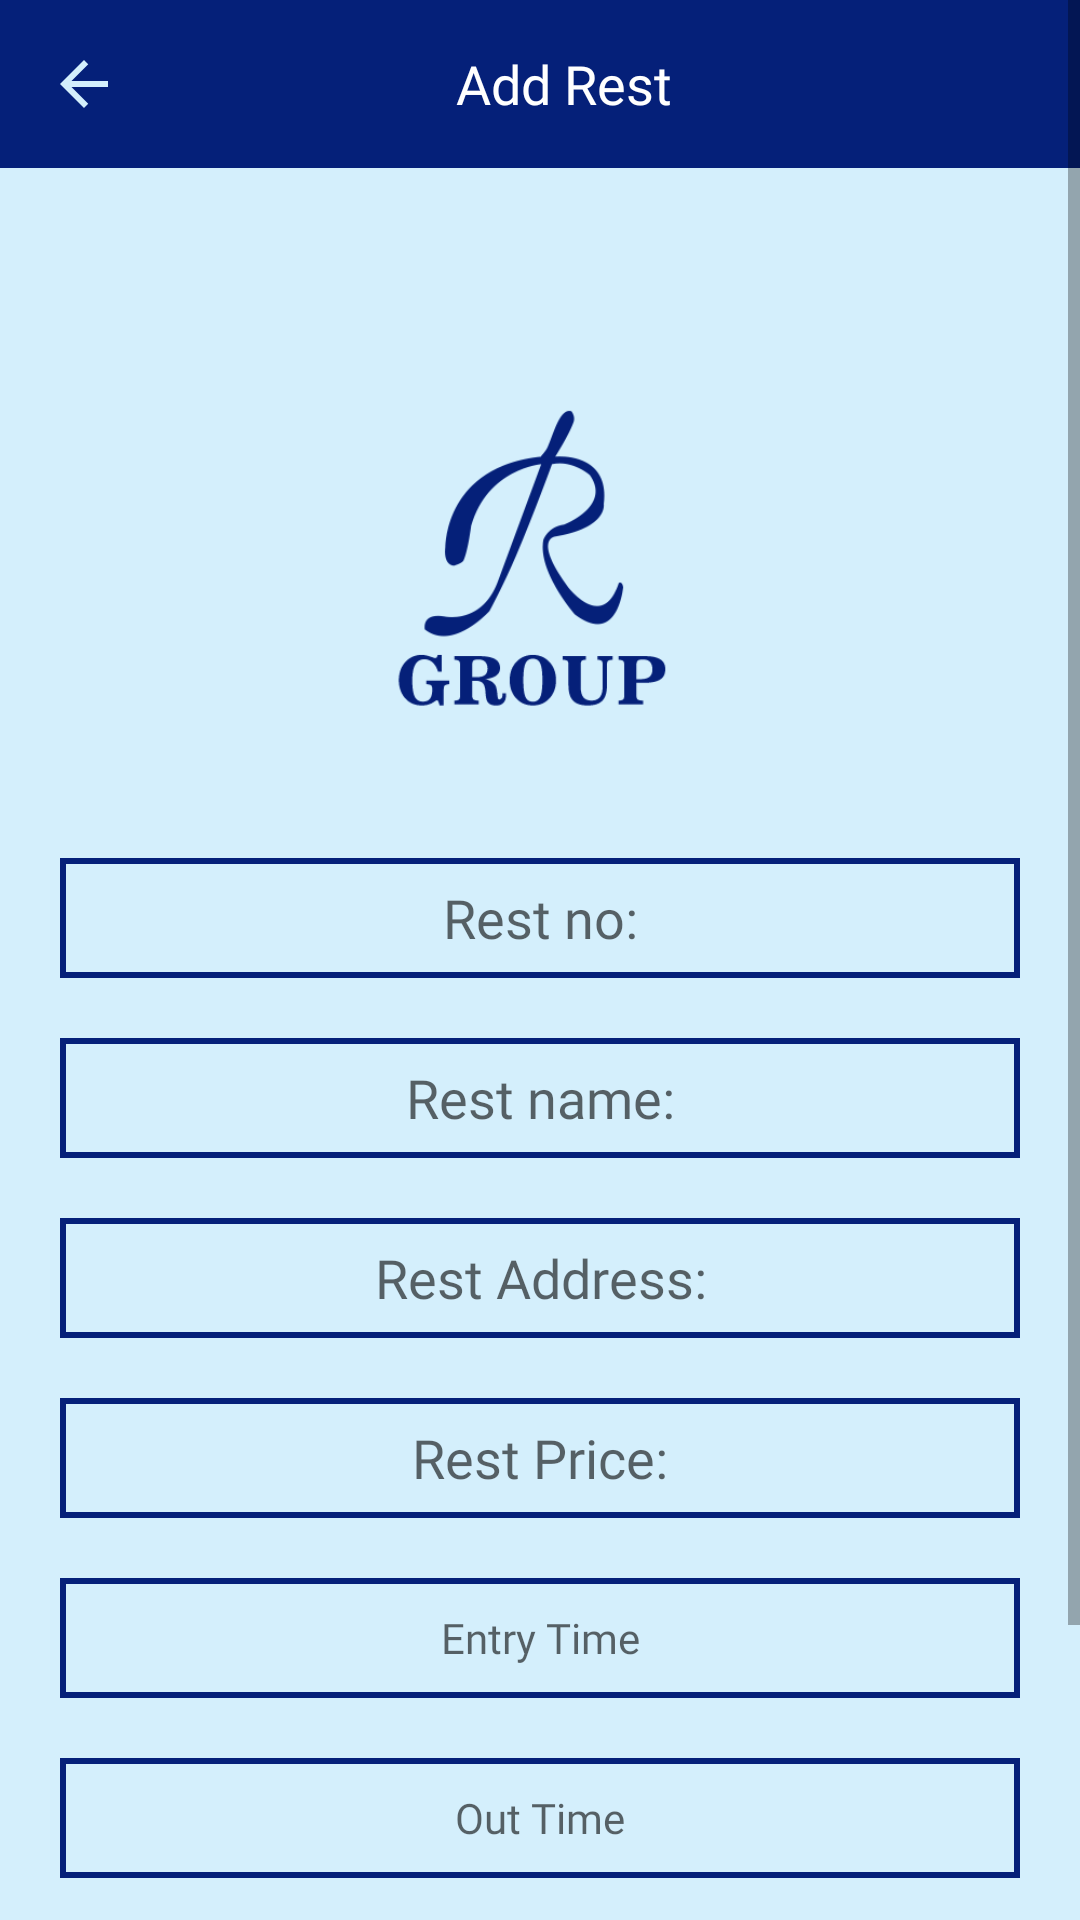

Icons on this 1080 x 1920 Android screen, each with the point to tap as [x,y]:
arrow back: [84,84]
